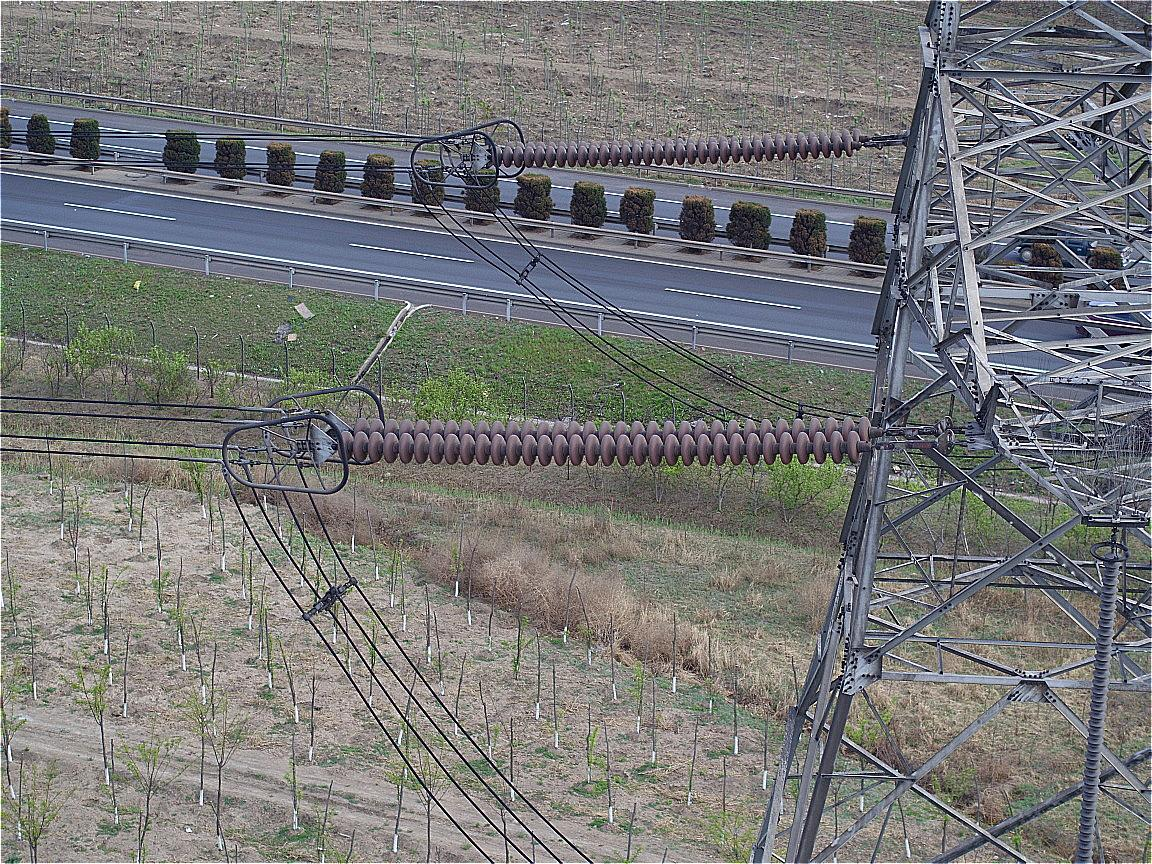insultor1: (334, 406, 869, 483), (485, 117, 897, 178)
